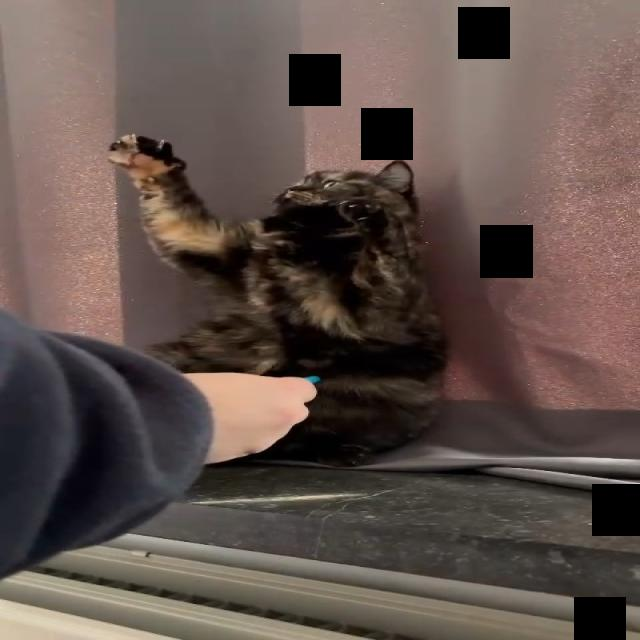authorized: (106, 132, 450, 467)
